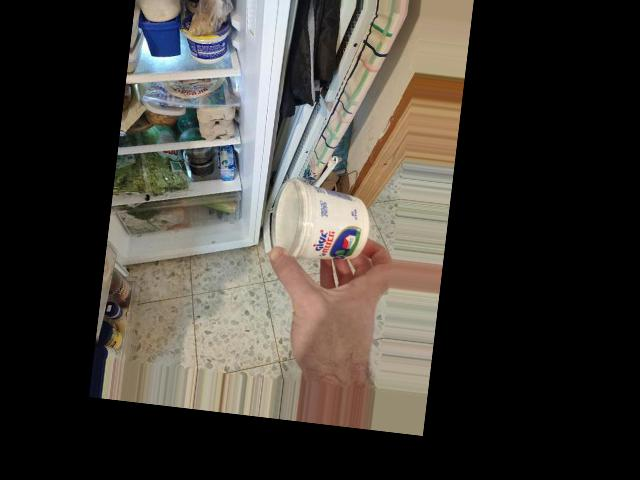cotage: (273, 185, 365, 271)
